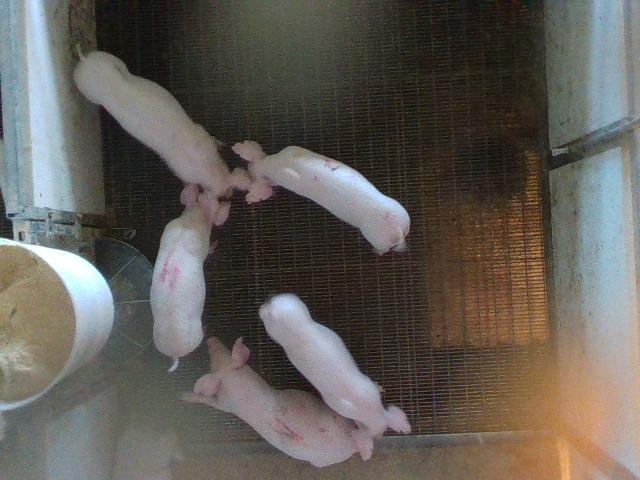pig-4: (150, 184, 211, 371)
